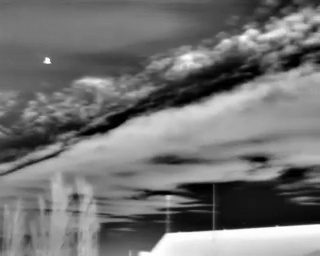BIRD: (41, 54, 53, 67)
